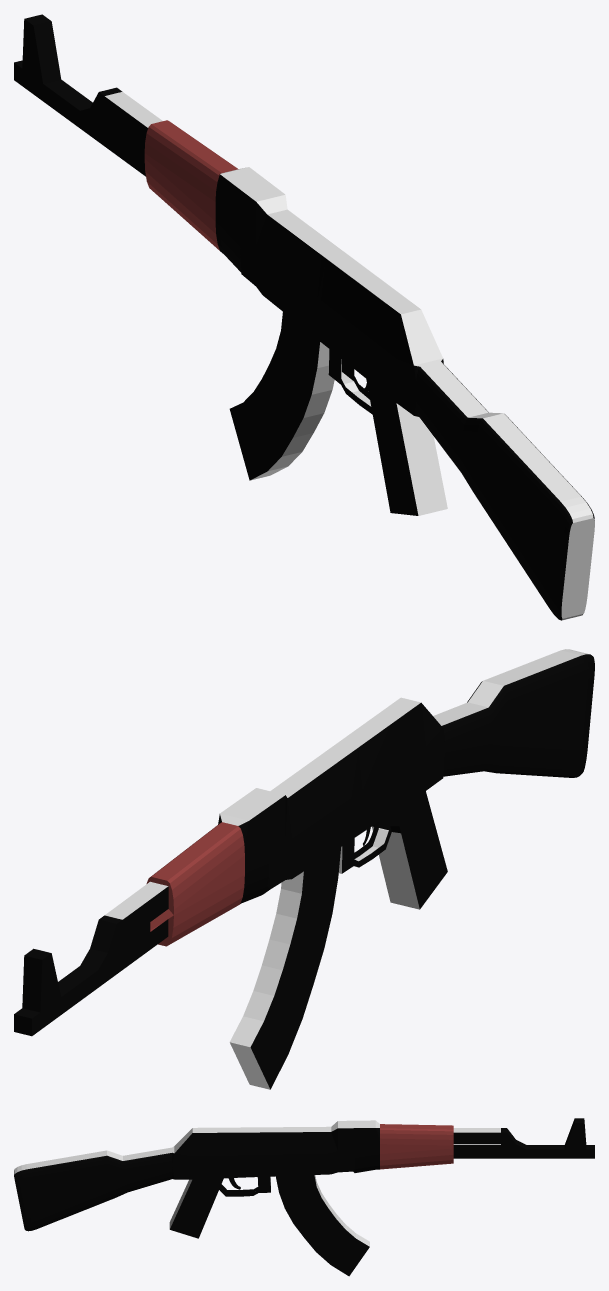
3 renders of one model, top to bottom at view 1: azimuth 30°, elevation 25°; view 2: azimuth 150°, elevation 25°; view 3: azimuth 270°, elevation 25°, orthographic. The views are drawn at different scales.
Parts seen in each view (by area): view 1: Cube; view 2: Cube; view 3: Cube.
Boxes of the visible parts, left/top/right/bottom form: Cube: left=14, top=14, right=594, bottom=620; Cube: left=14, top=649, right=594, bottom=1089; Cube: left=14, top=1118, right=594, bottom=1276.
Bounding box in the file's own units: 50.37 × 484 × 1664.
